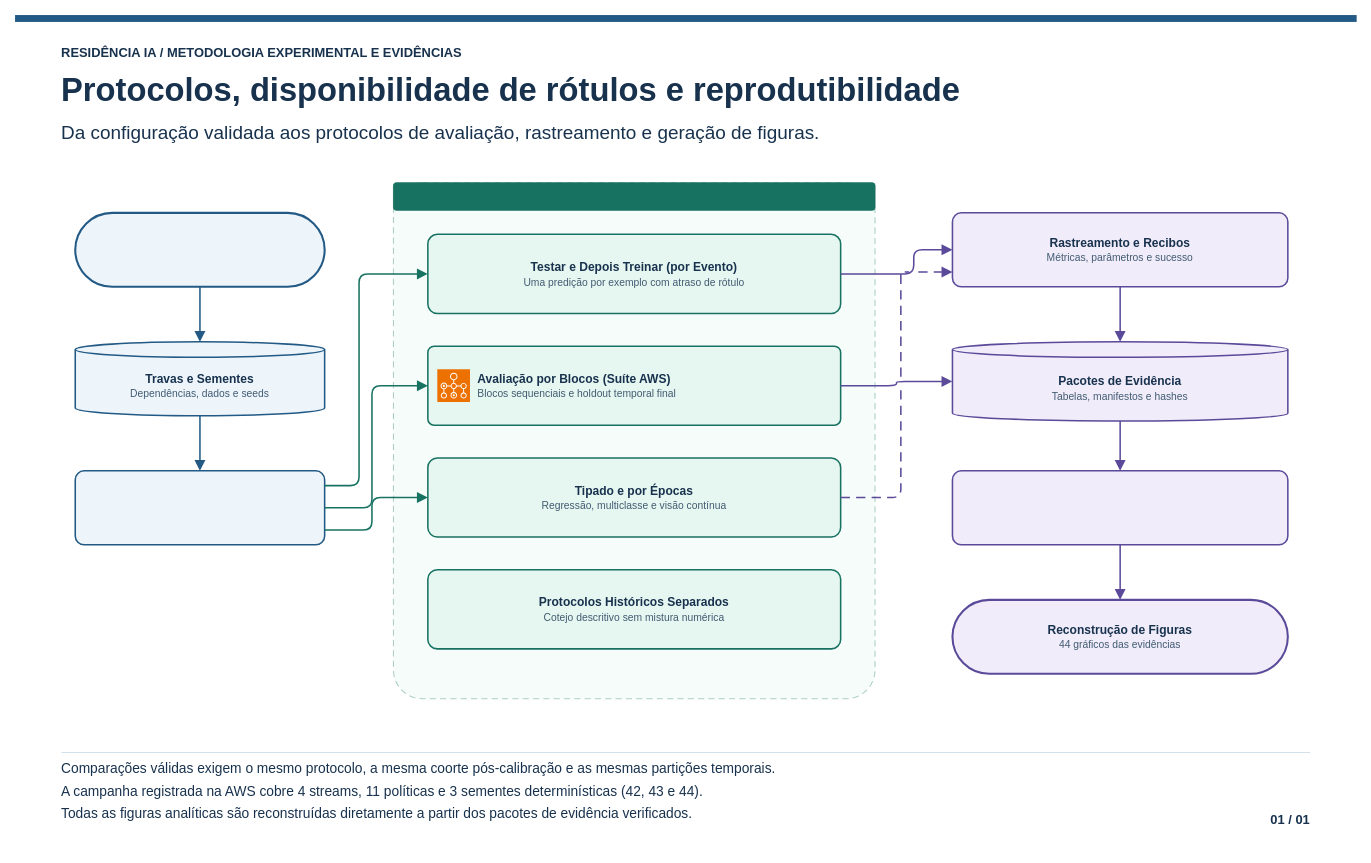
The diagram is 1371 pixels wide and 863 high, and some of its shapes have lost their labels. Each missing label, with the centre of its shape:
"Auditoria Automatizada Consistência e integridade" goes at (1119,507).
"Calibração por Custo Limiar ótimo segundo custos" goes at (199,507).
"Configuração Validada Esquemas estritos e identidade" goes at (199,249).
"Protocolos de Avaliação" goes at (634,196).
